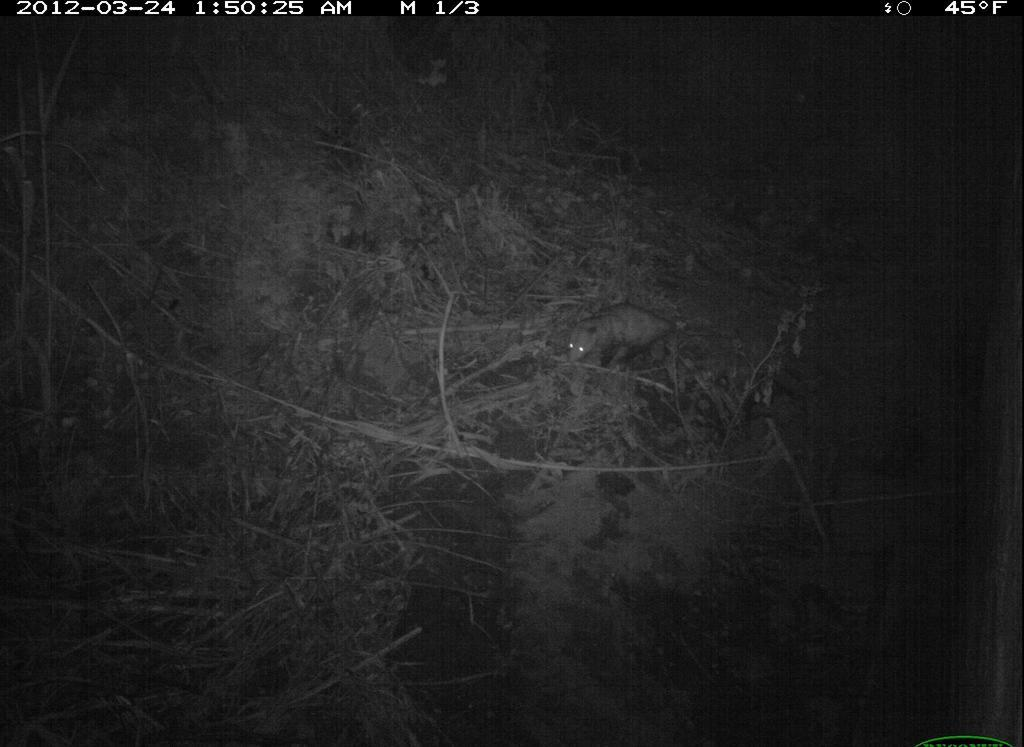opossum: (557, 301, 690, 383)
